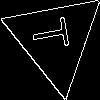T: (30, 14, 78, 52)
